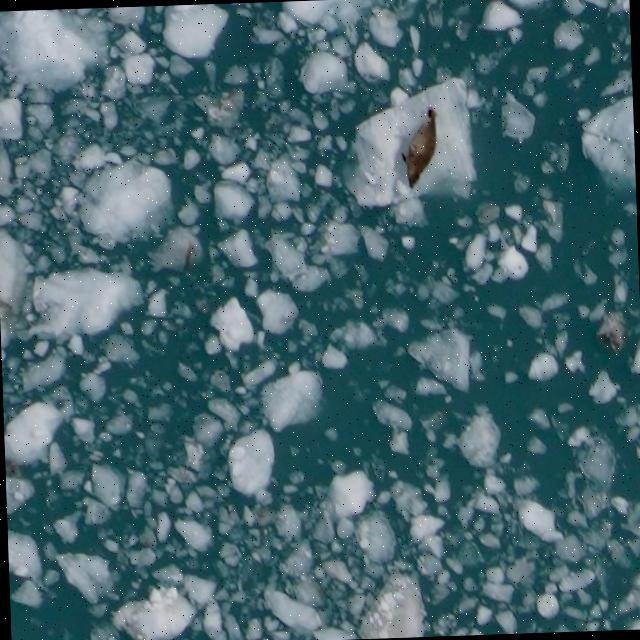seal: (406, 108, 438, 189)
